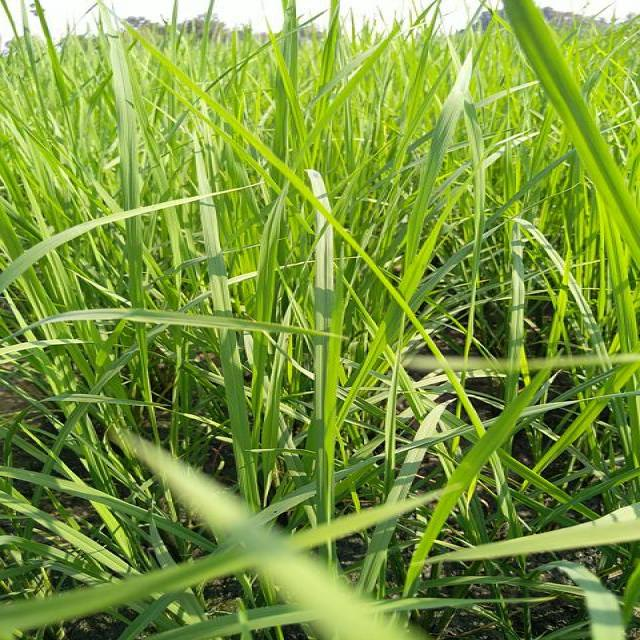Rice: (501, 0, 640, 259), (105, 7, 155, 411), (203, 148, 253, 510), (405, 50, 478, 264), (519, 356, 633, 492), (0, 491, 152, 589), (365, 404, 442, 588), (461, 508, 640, 572), (347, 264, 425, 405), (303, 163, 331, 533), (598, 195, 640, 349), (258, 296, 294, 471), (30, 179, 73, 311), (254, 175, 292, 296), (308, 14, 340, 123)
